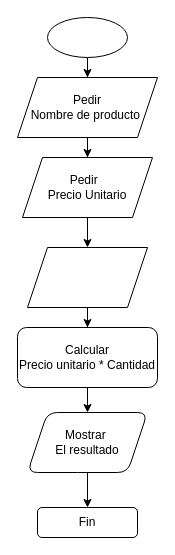
This 175x555 diagram has some shape labels left out. Here are the shapes that lost their labels. From the top down, the box of each, then its label:
(46, 16, 128, 58): inicio
(26, 246, 148, 308): Pedir Cantidad
